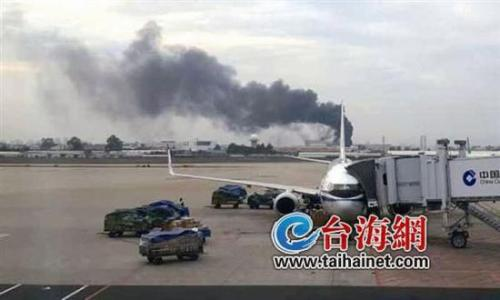smoke: (98, 28, 353, 140)
